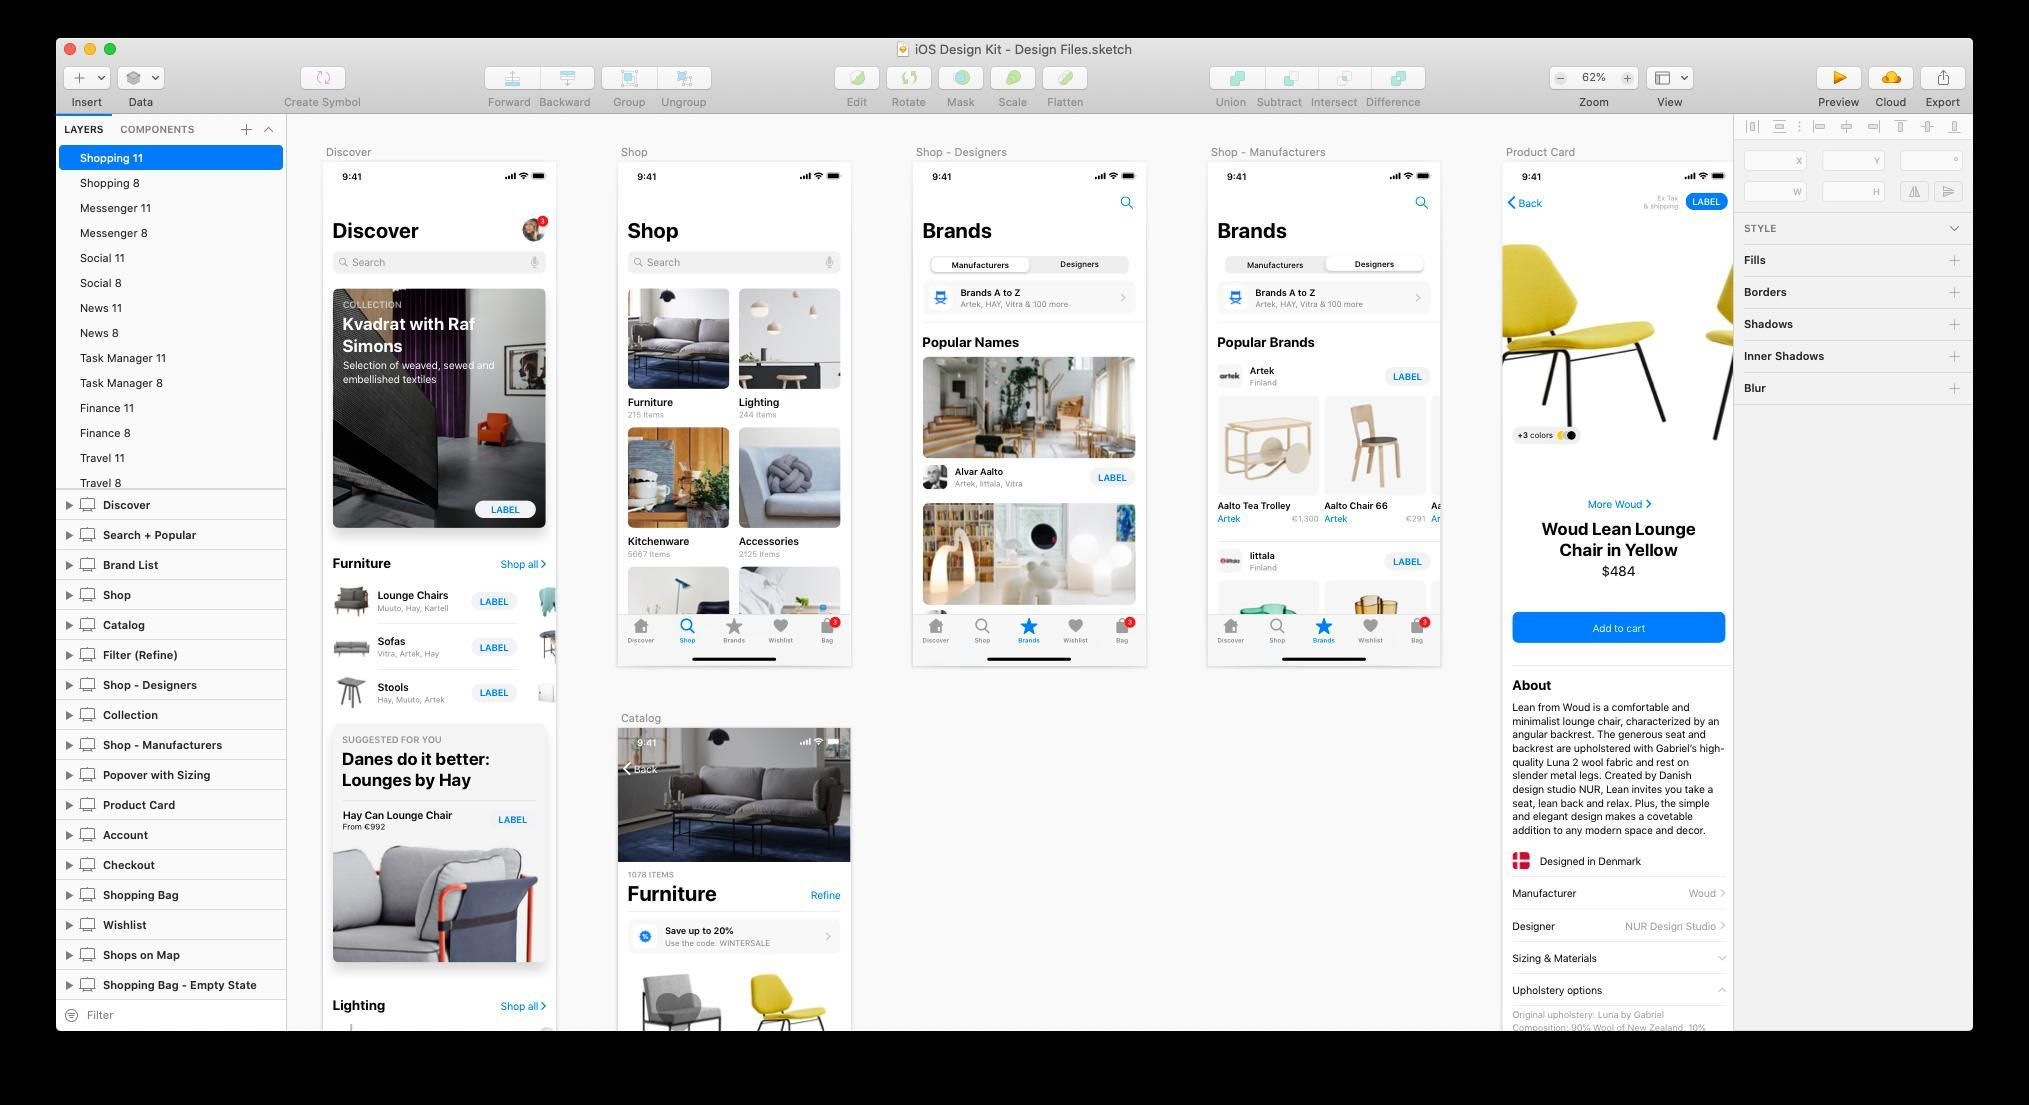button: (1513, 611, 1728, 645), (1325, 256, 1428, 274), (929, 257, 1032, 274), (1513, 427, 1583, 446), (476, 499, 538, 518), (474, 637, 518, 659), (1685, 192, 1730, 212), (1384, 552, 1432, 572), (490, 811, 538, 830), (1385, 367, 1432, 386), (472, 685, 518, 704), (474, 593, 518, 612), (1091, 469, 1136, 487), (1621, 72, 1636, 87)
dropdown: (1738, 212, 1970, 248), (1647, 67, 1696, 90)
icon: (484, 65, 543, 93), (601, 65, 659, 91), (1210, 67, 1268, 91), (544, 65, 596, 93), (659, 65, 713, 91), (1373, 67, 1428, 91), (1321, 67, 1374, 91), (118, 65, 166, 91), (1868, 67, 1916, 93), (1268, 67, 1321, 90), (991, 65, 1036, 93), (1042, 65, 1089, 91), (64, 67, 112, 91), (301, 67, 348, 91), (940, 65, 985, 91), (1817, 67, 1863, 91), (887, 67, 934, 91), (1921, 67, 1966, 91), (836, 67, 882, 90), (1900, 182, 1931, 203), (1934, 182, 1965, 203), (633, 927, 659, 950), (1115, 618, 1138, 640), (78, 914, 99, 936), (1408, 616, 1432, 637), (78, 885, 98, 908), (78, 555, 99, 576), (78, 587, 99, 607), (78, 615, 99, 636), (78, 675, 99, 695), (78, 736, 99, 757), (78, 795, 99, 815), (78, 766, 98, 787), (821, 618, 842, 637), (78, 495, 99, 514), (78, 827, 99, 846), (78, 976, 99, 995), (1315, 616, 1334, 637), (724, 618, 744, 637), (1745, 117, 1764, 137), (78, 646, 98, 665), (79, 855, 98, 875), (78, 706, 99, 724), (1836, 118, 1855, 137), (1945, 118, 1964, 137), (78, 947, 98, 965), (1810, 118, 1828, 137), (1892, 118, 1911, 136), (79, 527, 98, 544), (1120, 195, 1138, 214), (1270, 618, 1287, 636), (927, 618, 944, 636), (974, 618, 992, 636), (679, 618, 697, 636), (1770, 118, 1788, 136), (1021, 619, 1040, 636), (1920, 118, 1936, 137), (1223, 618, 1241, 634), (1068, 619, 1086, 636), (240, 122, 257, 139), (634, 619, 650, 636), (772, 619, 789, 634), (1364, 618, 1379, 634), (65, 1008, 80, 1025), (1947, 318, 1962, 333), (1868, 118, 1883, 133), (263, 125, 279, 139), (1554, 73, 1569, 87), (1949, 382, 1962, 396), (1417, 197, 1430, 211), (1949, 351, 1964, 363), (825, 929, 836, 946), (1950, 254, 1962, 268), (1949, 287, 1962, 299), (1796, 120, 1804, 137)
input: (333, 250, 548, 275), (627, 252, 842, 275), (1900, 150, 1965, 173), (1745, 150, 1809, 173), (1824, 150, 1887, 173), (1745, 182, 1809, 204), (1824, 182, 1887, 204)
label: (280, 95, 365, 112), (1745, 351, 1826, 365), (120, 124, 196, 137), (542, 94, 593, 112), (1365, 97, 1423, 110), (484, 97, 538, 112), (659, 97, 710, 112), (667, 927, 736, 938), (1745, 287, 1789, 302), (63, 122, 108, 137), (1745, 318, 1794, 332), (67, 95, 106, 110), (1312, 97, 1359, 109), (891, 97, 929, 112), (1257, 98, 1304, 110), (1818, 98, 1863, 110), (612, 97, 645, 112), (1048, 97, 1086, 109), (1927, 97, 1964, 109), (947, 97, 977, 112), (128, 95, 158, 109), (845, 97, 872, 112), (1217, 98, 1248, 110), (1580, 97, 1611, 109), (1875, 97, 1909, 108), (999, 97, 1029, 109), (1657, 97, 1686, 109), (1743, 253, 1768, 267), (1745, 382, 1769, 395)
